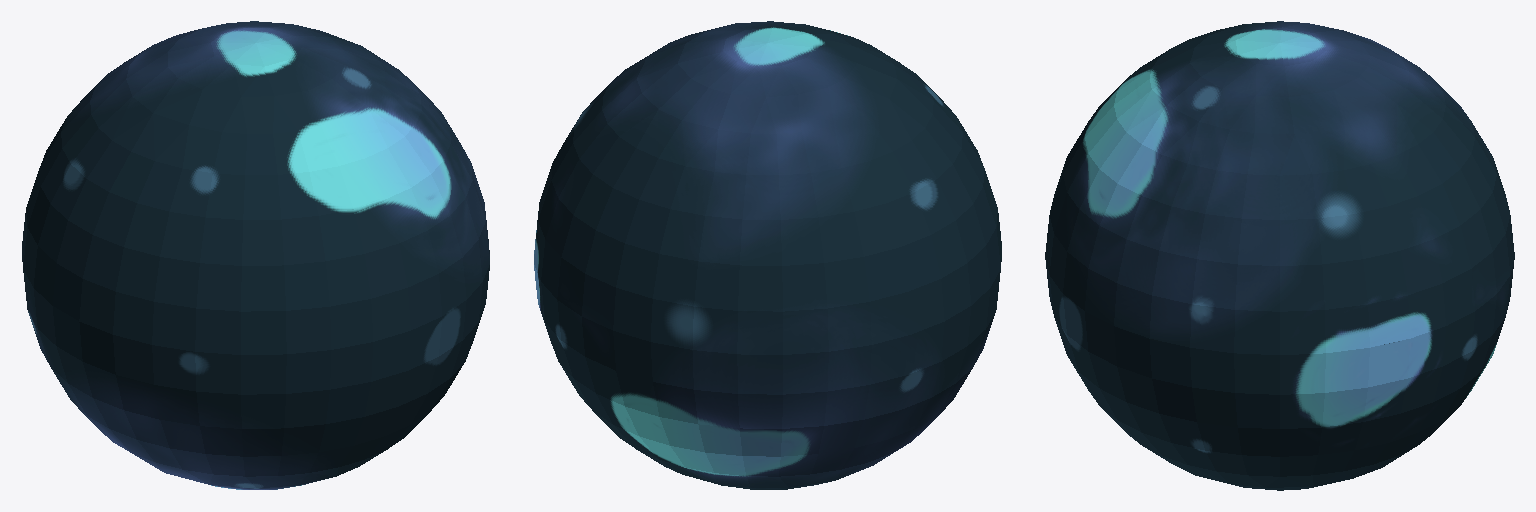
3 views of the same model, side by side, from view 1: azimuth 30°, elevation 25°; view 2: azimuth 150°, elevation 25°; view 3: azimuth 270°, elevation 25° (orthographic).
Visible parts, largest first — view 1: Sphere.006_Sphere.002; view 2: Sphere.006_Sphere.002; view 3: Sphere.006_Sphere.002.
Boxes of the visible parts, x1=… form: Sphere.006_Sphere.002: x1=22, y1=21, x2=489, y2=489; Sphere.006_Sphere.002: x1=534, y1=21, x2=1001, y2=489; Sphere.006_Sphere.002: x1=1045, y1=21, x2=1514, y2=490.
Bounding box in the file's own units: 2.02 × 2.02 × 2.02.
1 materials, 1 textured.